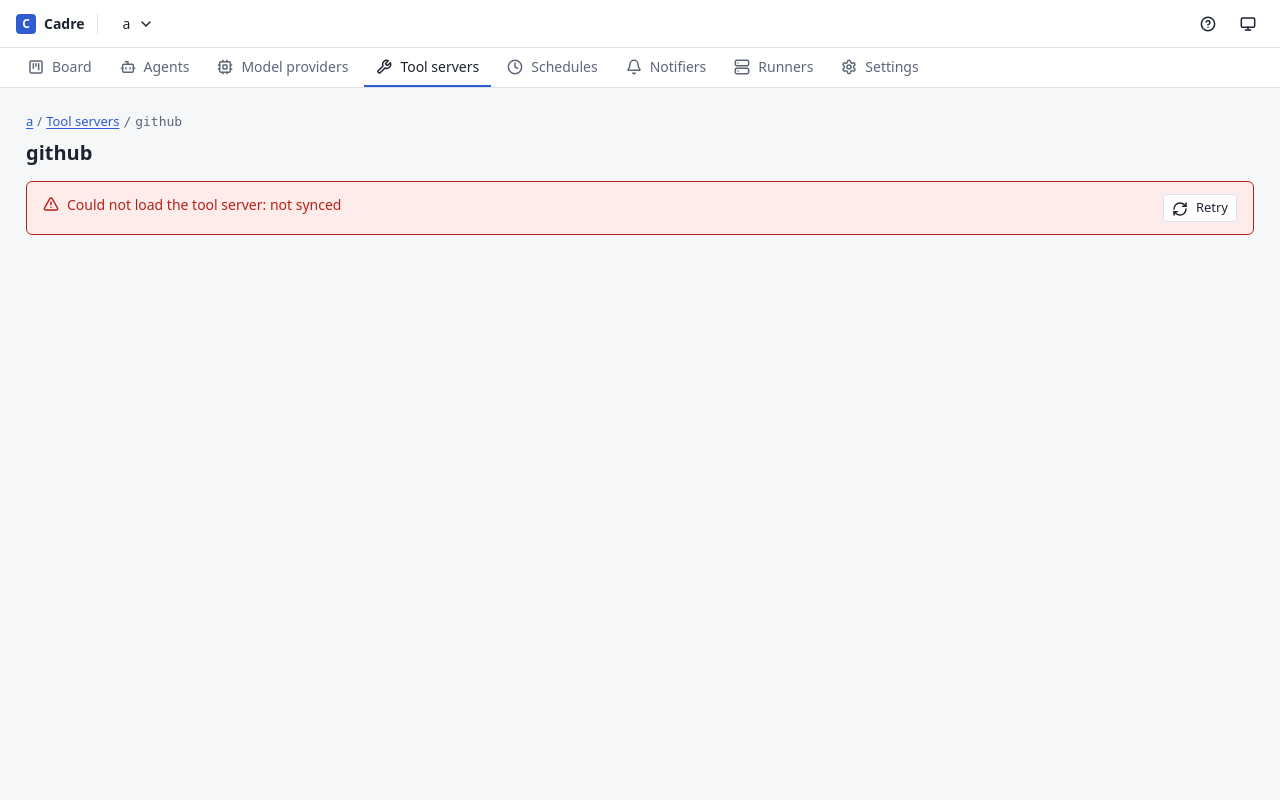
Test case: ToolServerDetail › shows a failed read with Retry, which reads again
Expected: the text "Could not load the tool server: not synced" is shown, [67,194,342,214]
Click the button "Retry": (1200,208) [1163,194,1237,222]
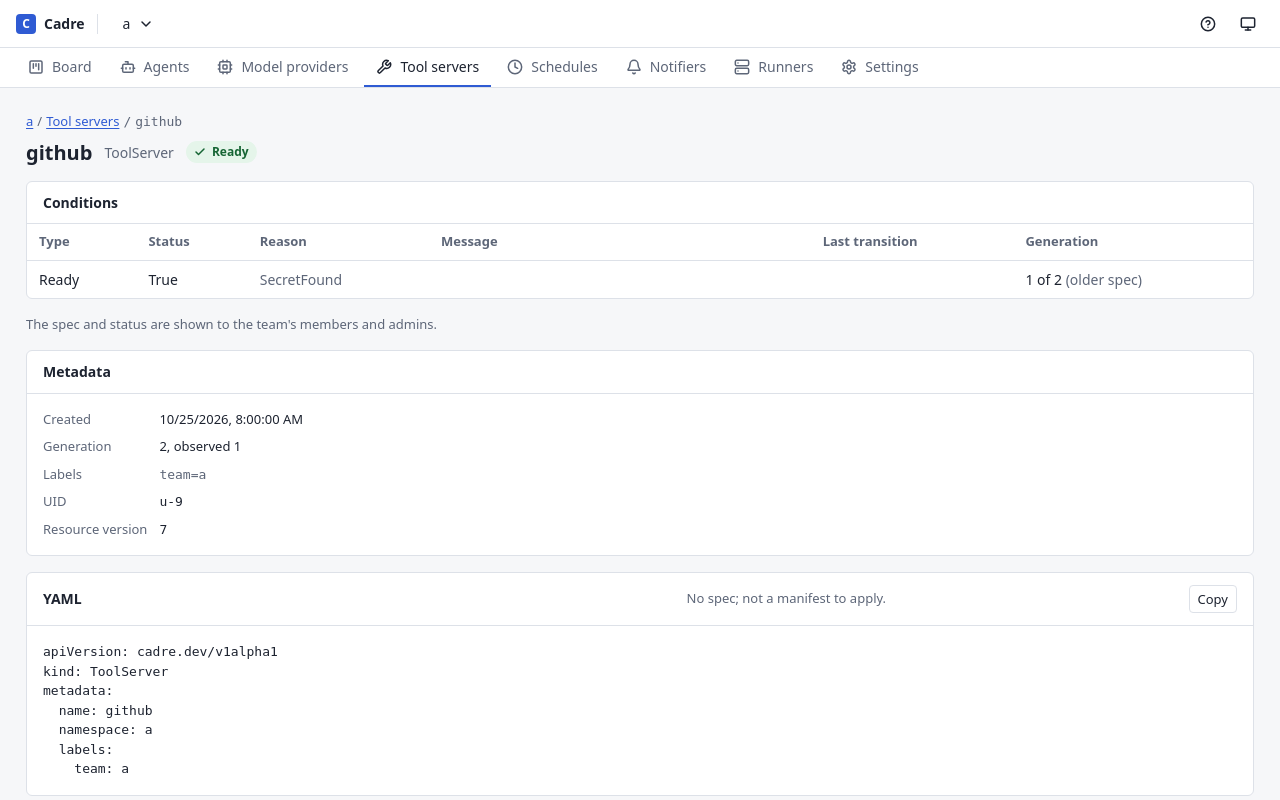
Expected: the element named "Conditions table" is shown, [27,224,1253,298]
Expected: the text "Could not load the tool server" is gone
